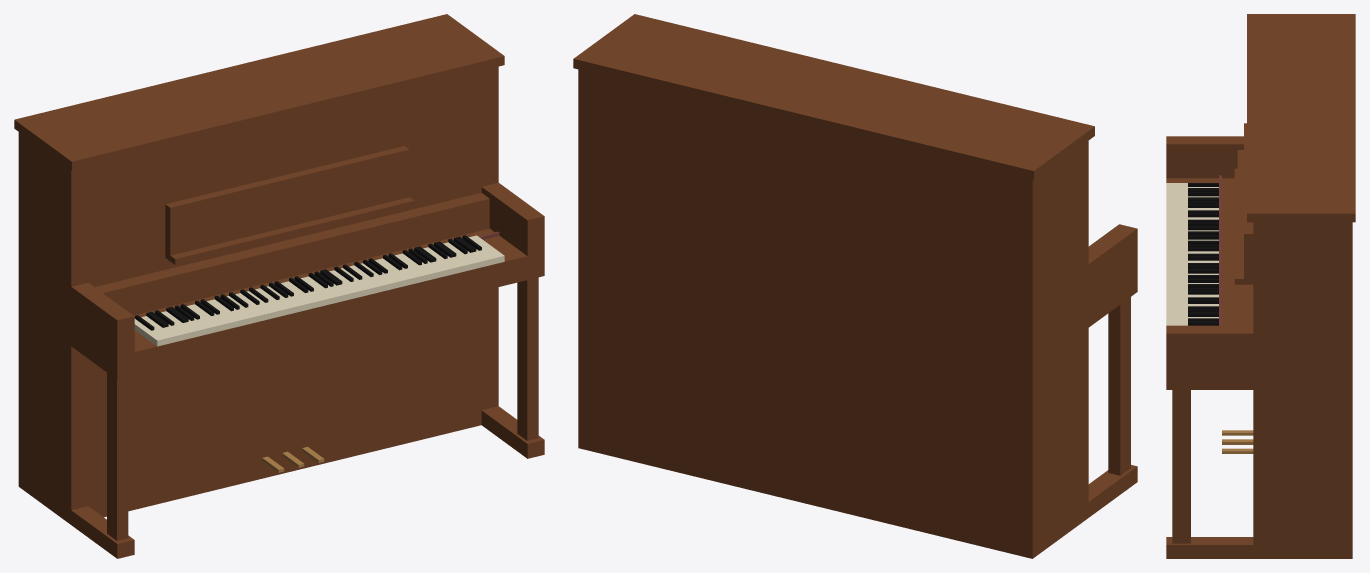
File: piano.glb
3 renders of one model, left to right at view 1: azimuth 30°, elevation 25°; view 2: azimuth 150°, elevation 25°; view 3: azimuth 270°, elevation 25°, orthographic. The views are drawn at different scales.
Visible parts, largest first — view 1: piano:compound; view 2: piano:compound; view 3: piano:compound.
Part boxes in pixels (bbox=[...]): piano:compound: bbox=[14, 14, 544, 558]; piano:compound: bbox=[573, 14, 1137, 558]; piano:compound: bbox=[1166, 14, 1355, 558].
Size of the model in its own units: 1.52 by 1.23 by 0.61.
